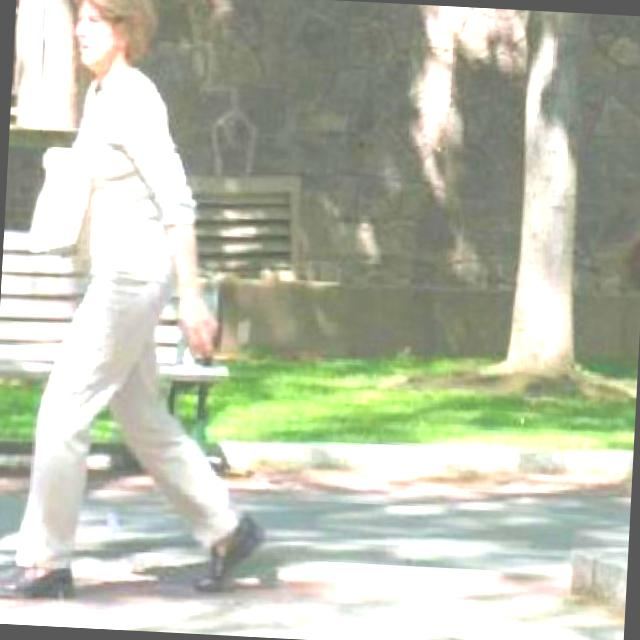Person: (0, 0, 290, 615)
